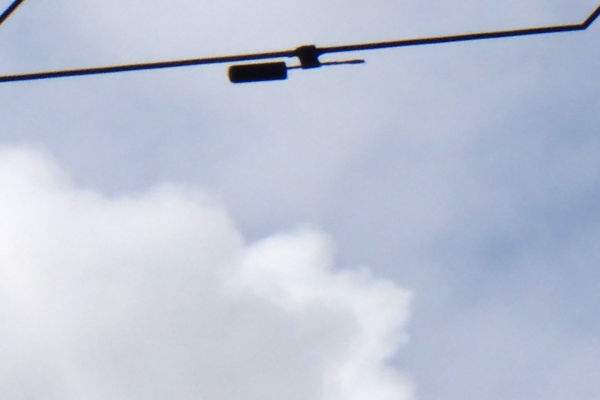damper_defect: (224, 41, 368, 88)
